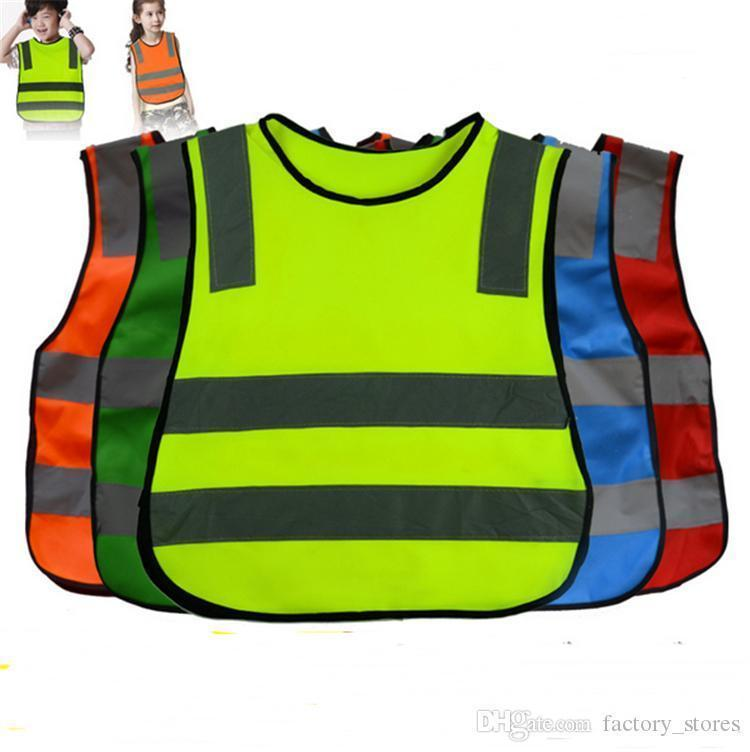vest: (139, 106, 596, 615), (23, 125, 166, 607), (587, 134, 730, 595), (534, 124, 665, 612), (92, 122, 219, 611), (14, 37, 85, 125), (128, 27, 185, 105)
